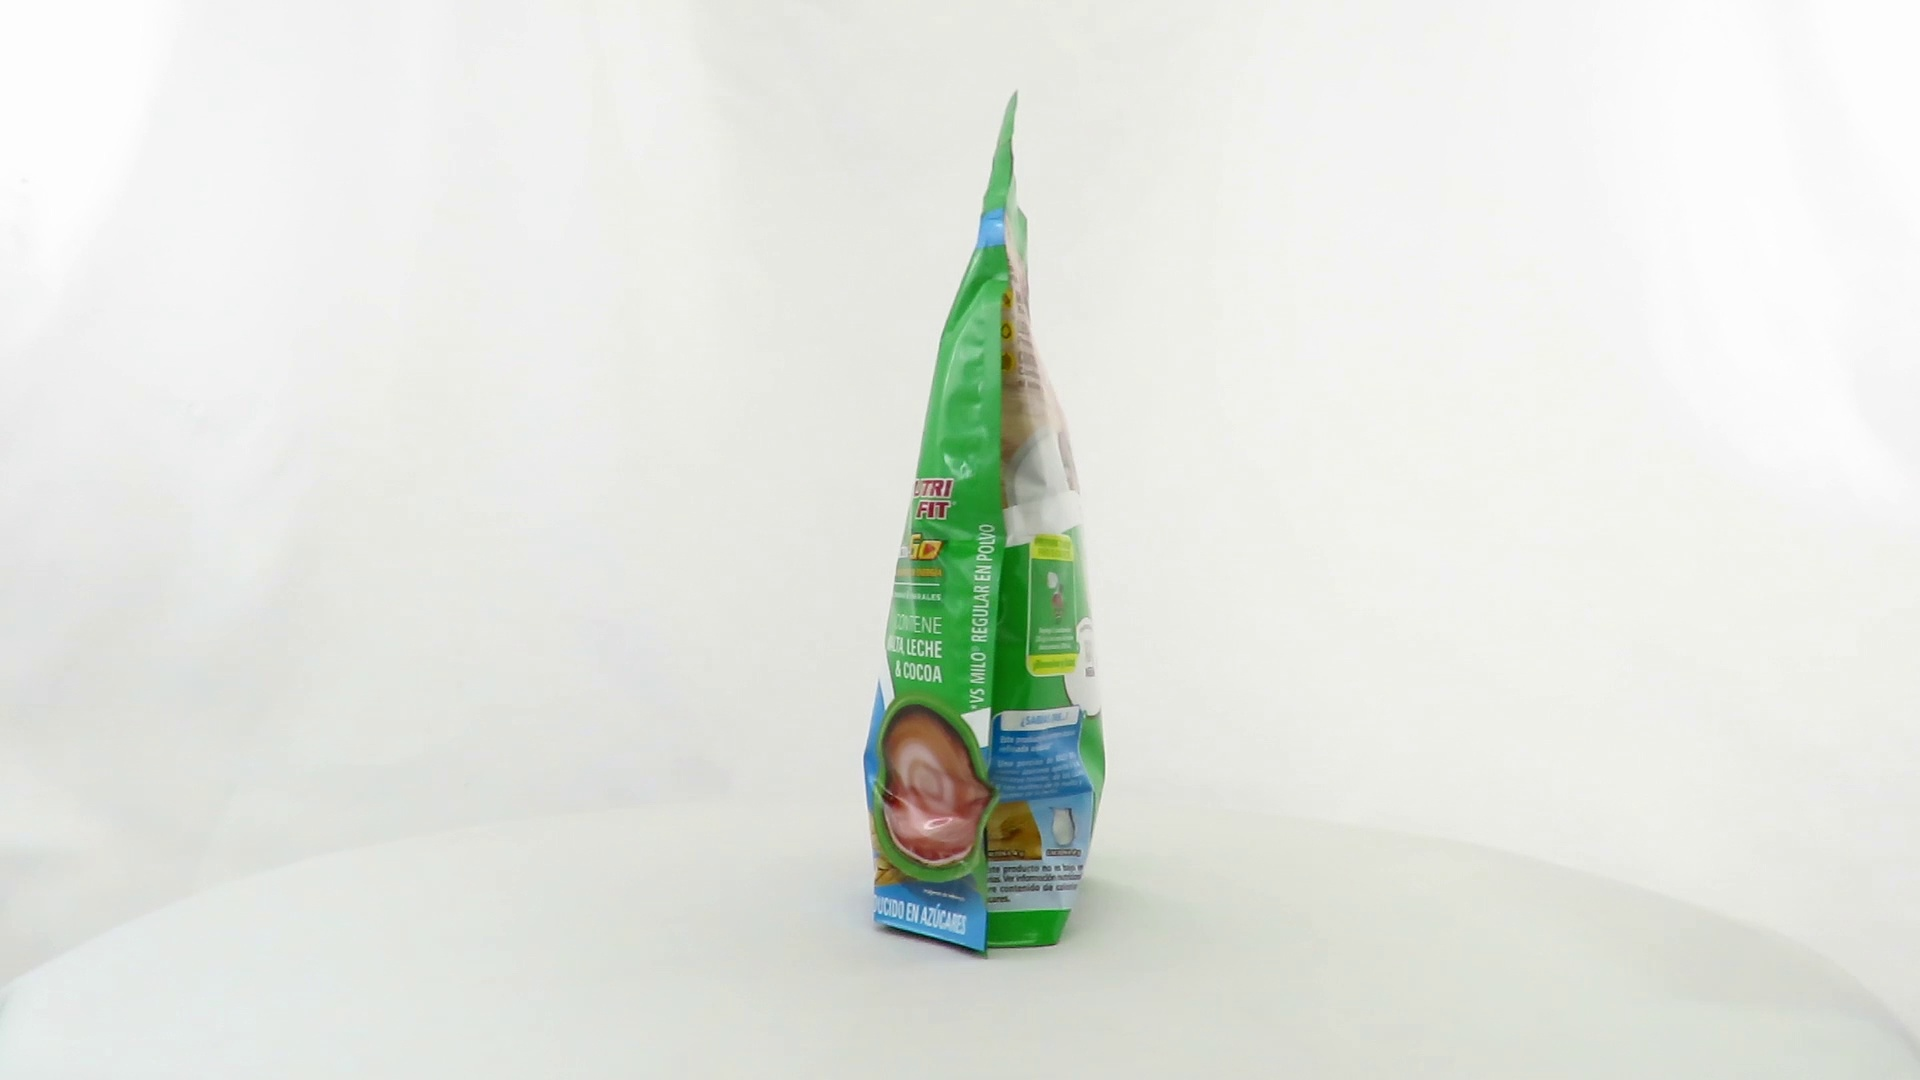COL0170205DYP50000: (858, 84, 1112, 967)
